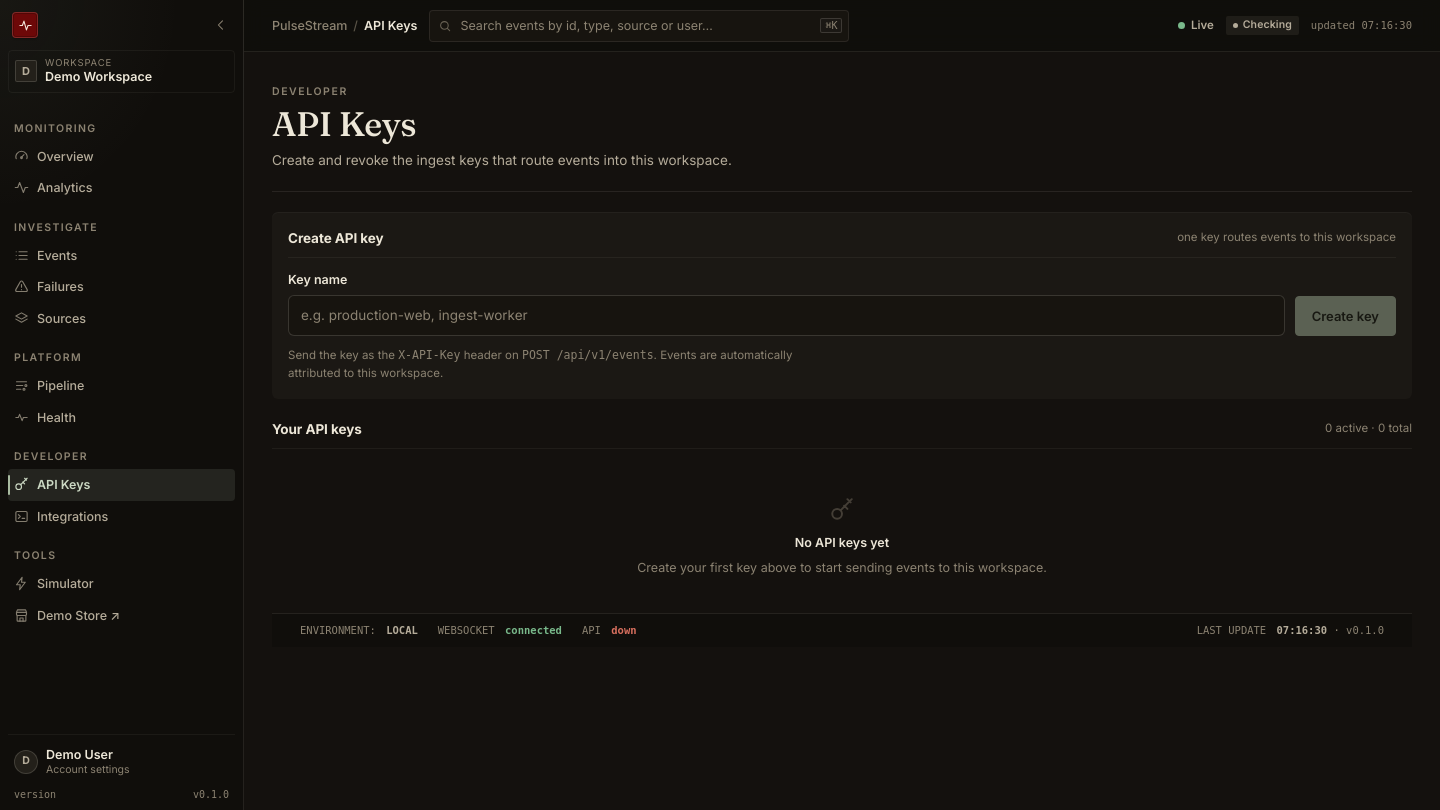
API Keys page › surfaces a server error when creation fails and does not reveal a secret
Expected: the text "No API keys yet" is shown, x1=795 y1=532 x2=889 y2=552
In the field labelled "Key name": x=786, y=315 x1=288 y1=295 x2=1285 y2=336, type "broken"
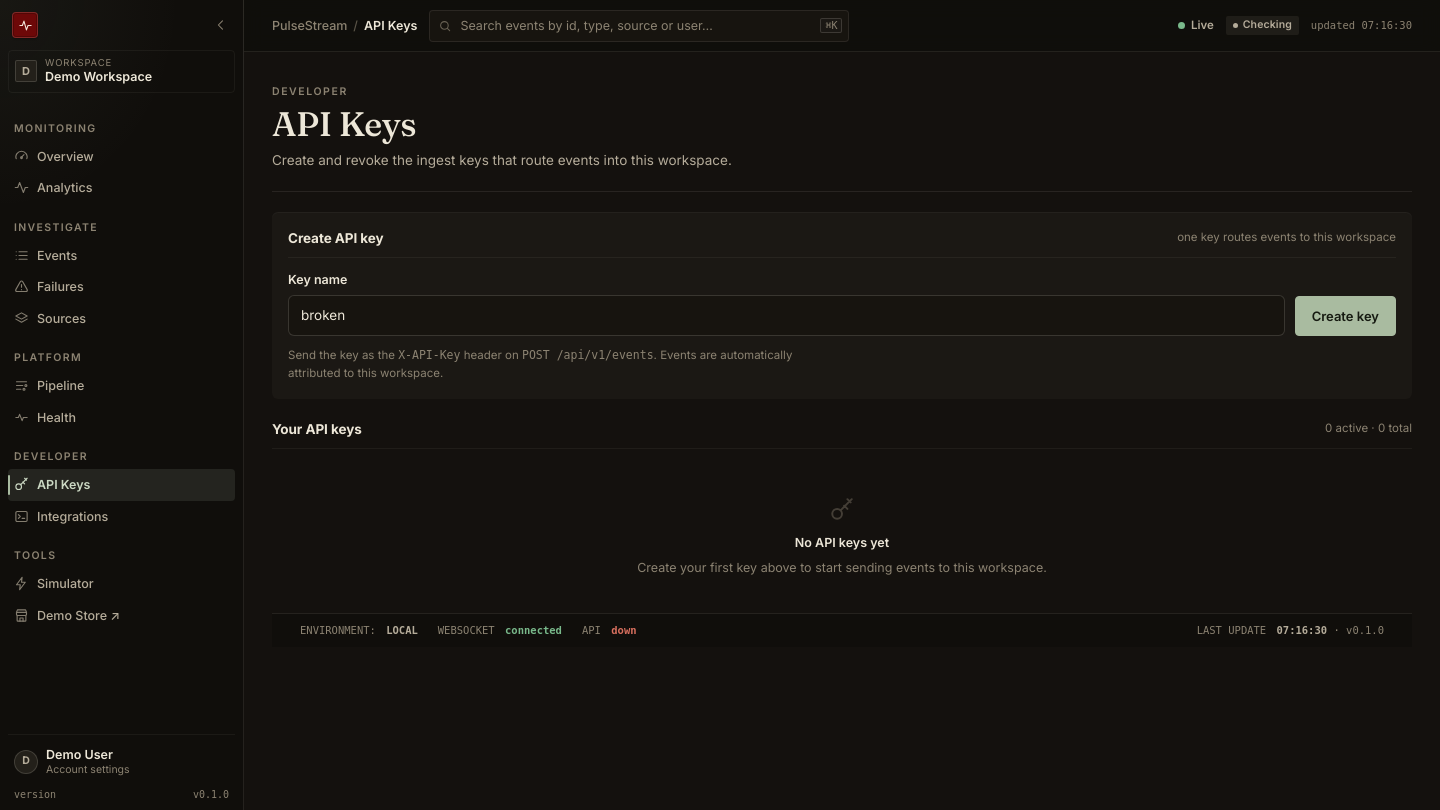
Click the button "Create key": x=1345, y=316 x1=1295 y1=296 x2=1396 y2=336
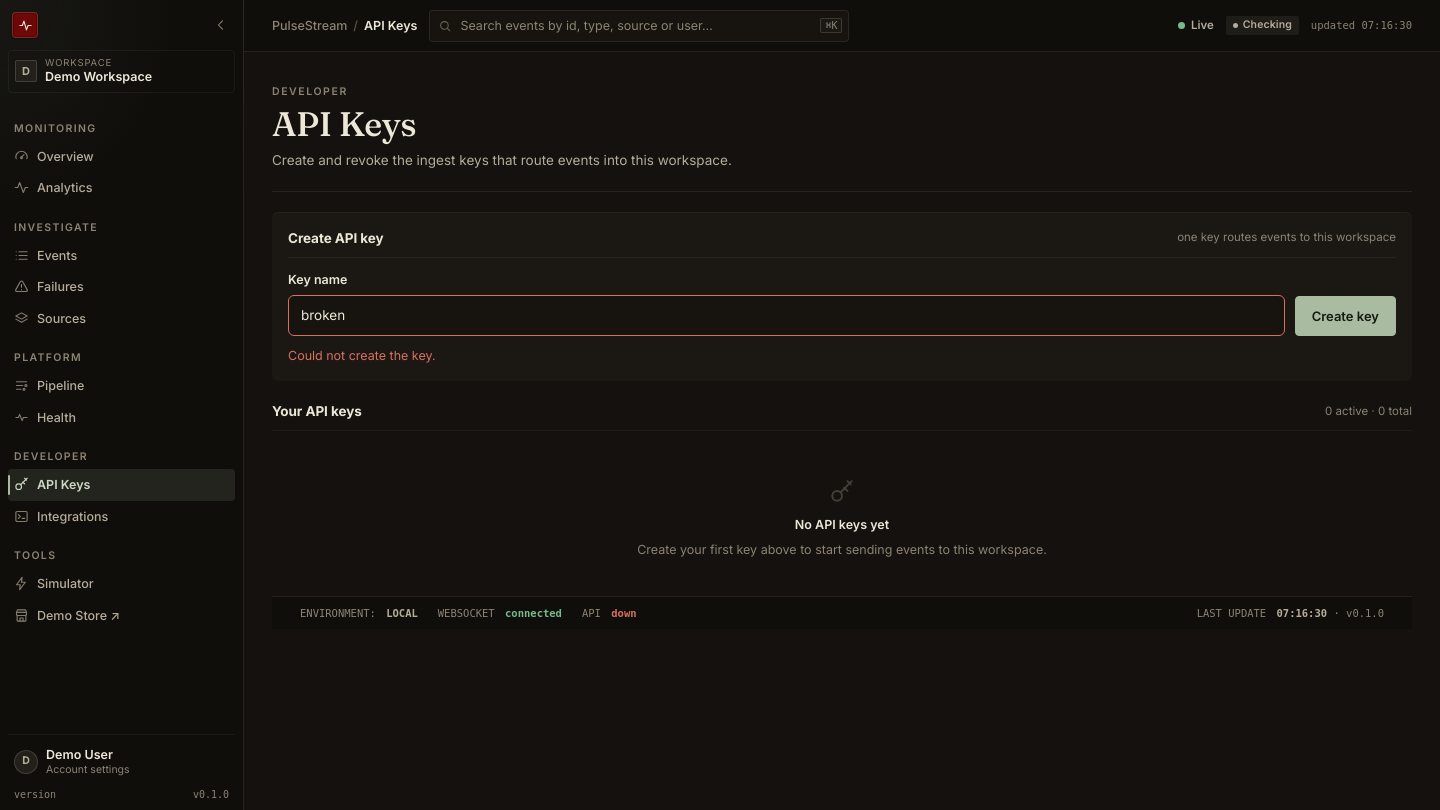
Now the text "Could not create the key." is shown, box x1=288 y1=348 x2=436 y2=363
